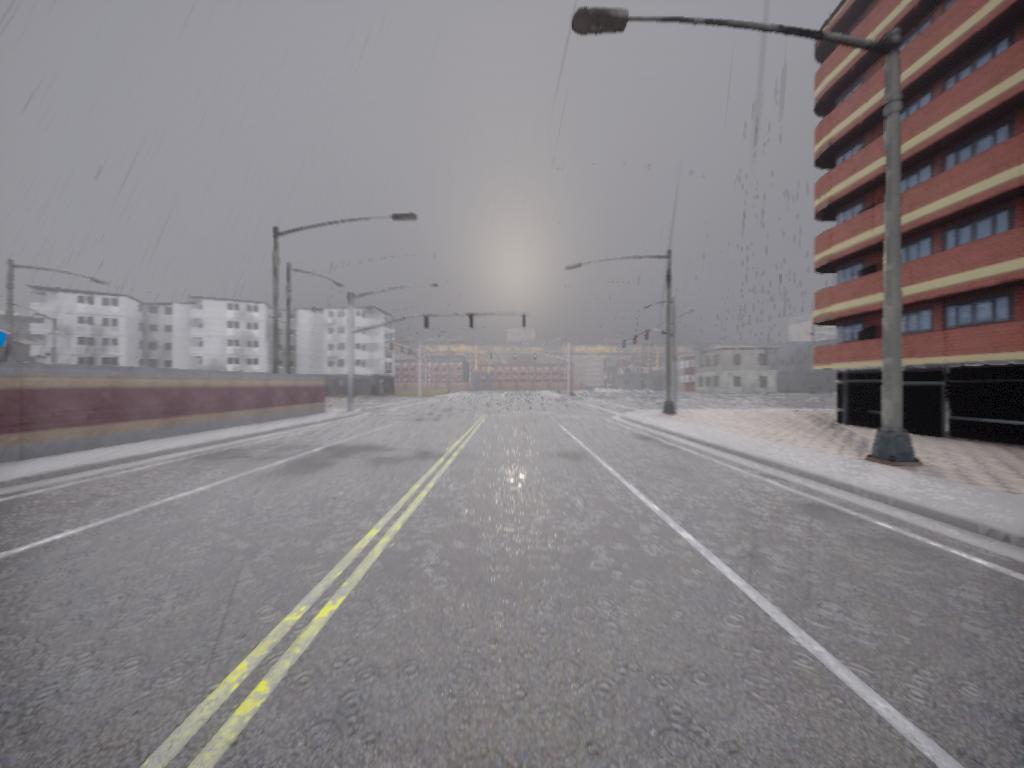traffic_light: (424, 316, 431, 332), (469, 315, 474, 329), (645, 331, 650, 344), (523, 316, 527, 328), (622, 340, 626, 350), (634, 336, 638, 346), (514, 353, 518, 362), (401, 346, 405, 355), (535, 353, 538, 363), (491, 353, 495, 360), (391, 344, 394, 353), (409, 350, 412, 357)
